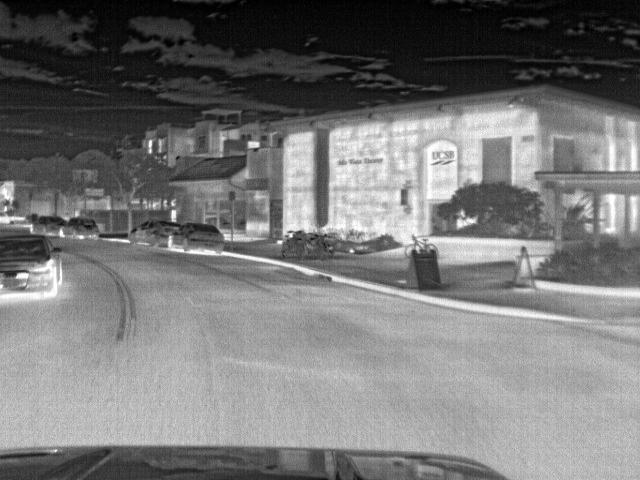car: (0, 234, 63, 299), (166, 221, 224, 254), (125, 218, 184, 248), (59, 217, 103, 243), (34, 214, 65, 234)
